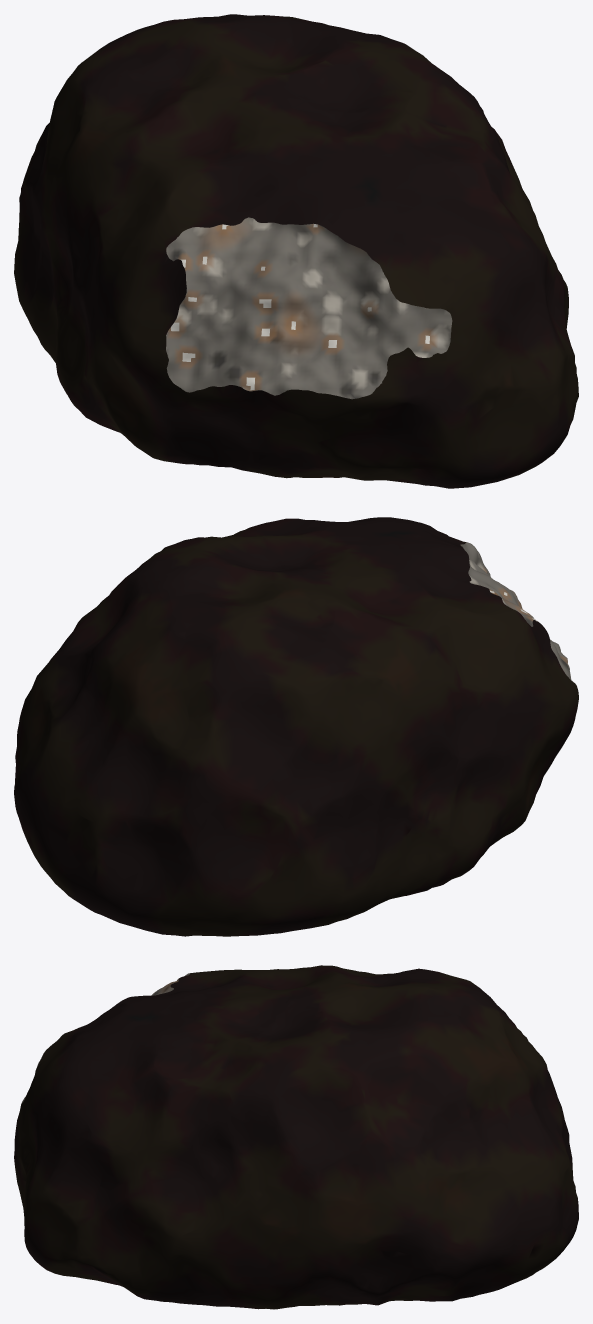
Rendered from photoreal-meteorite.glb.
The picture shows the model from 3 angles, top to bottom: view 1: azimuth 30°, elevation 25°; view 2: azimuth 150°, elevation 25°; view 3: azimuth 270°, elevation 25°; orthographic projection. The views are drawn at different scales.
Visible parts, largest first — view 1: Meteorite; view 2: Meteorite; view 3: Meteorite.
Part boxes in pixels (x1=…): Meteorite: x1=14, y1=14, x2=578, y2=488; Meteorite: x1=14, y1=517, x2=578, y2=936; Meteorite: x1=14, y1=965, x2=578, y2=1309.
Size of the model in its own units: 0.2452 by 0.1601 by 0.3116.
